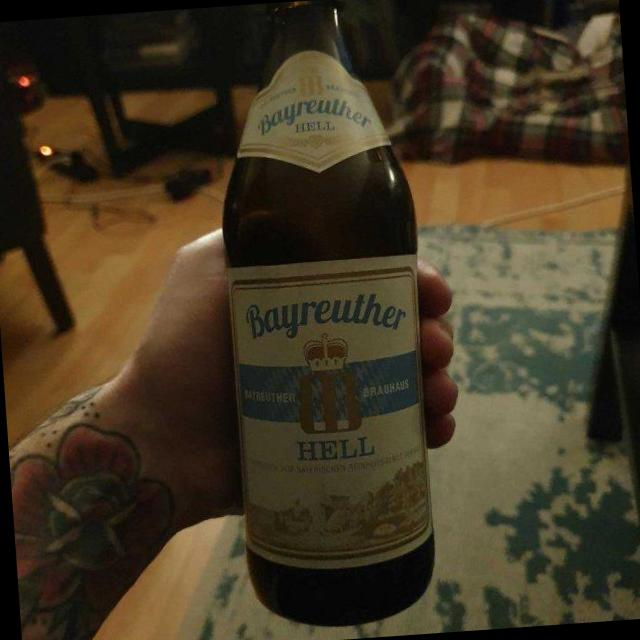BotolKaca: (203, 0, 445, 632)
